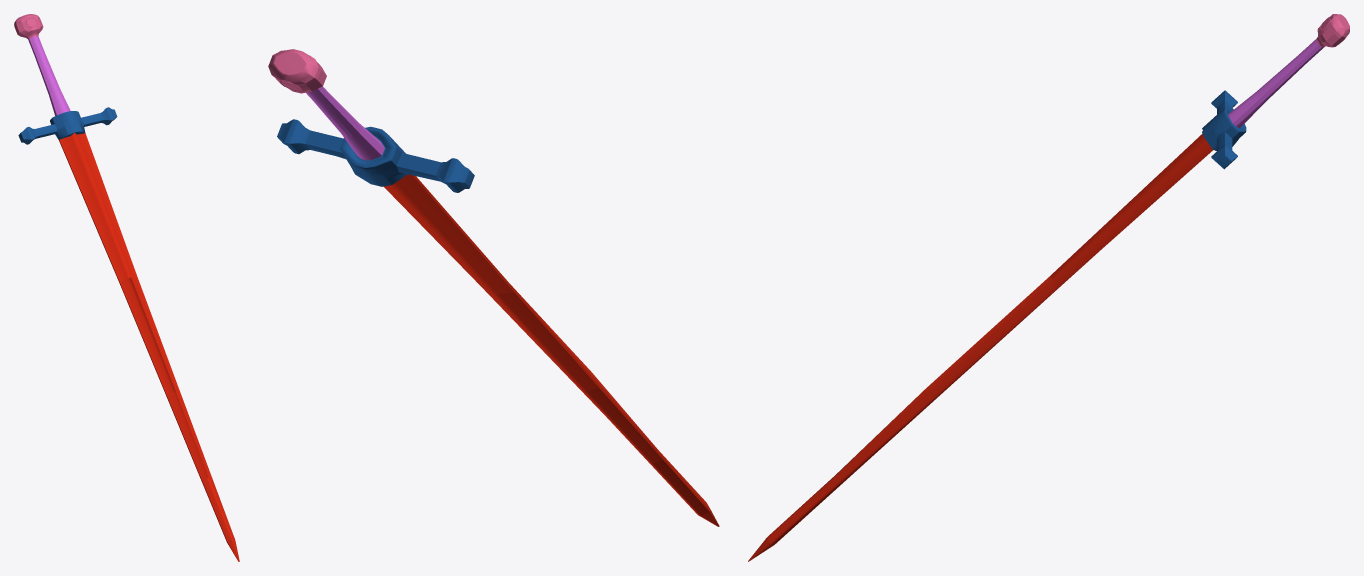
Rendered from Sword.fbx.
The picture shows the model from 3 angles, left to right: view 1: azimuth 30°, elevation 25°; view 2: azimuth 150°, elevation 25°; view 3: azimuth 270°, elevation 25°; orthographic projection. The views are drawn at different scales.
Parts seen in each view (by area): view 1: polySurface1027; view 2: polySurface1027; view 3: polySurface1027.
Part boxes in pixels (left/top/right/bottom): polySurface1027: left=14, top=14, right=239, bottom=561; polySurface1027: left=268, top=49, right=719, bottom=526; polySurface1027: left=748, top=14, right=1349, bottom=561.
Size of the model in its own units: 0.3617 by 1.44 by 1.44.
